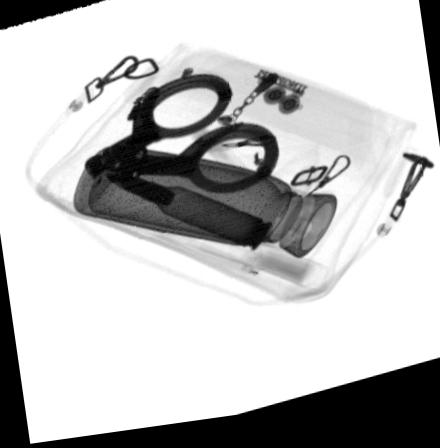Bullet: (103, 173, 274, 261)
HandCuffs: (78, 77, 280, 198)
